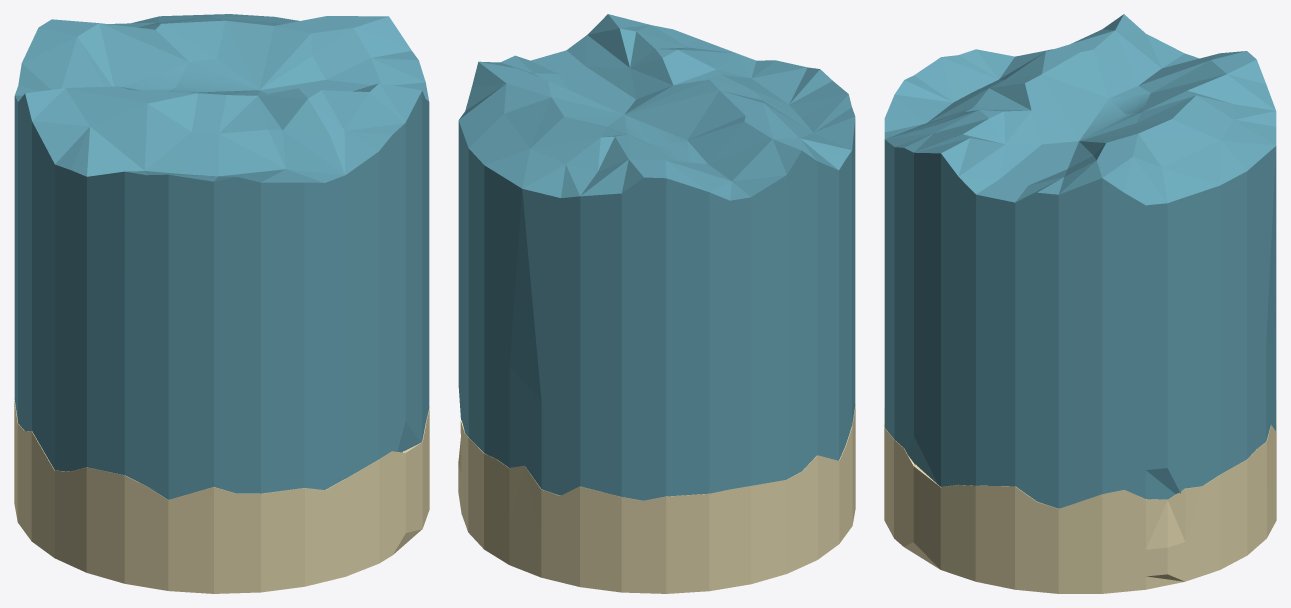
The model's file is parasitic_plastic.glb.
3 renders of one model, left to right at view 1: azimuth 30°, elevation 25°; view 2: azimuth 150°, elevation 25°; view 3: azimuth 270°, elevation 25°, orthographic. The views are drawn at different scales.
Parts seen in each view (by area): view 1: Object_18, Object_7; view 2: Object_18, Object_7; view 3: Object_18, Object_7.
Part boxes in pixels (left/top/right/bottom): Object_18: left=14, top=14, right=429, bottom=499; Object_7: left=14, top=399, right=429, bottom=593; Object_18: left=458, top=14, right=855, bottom=500; Object_7: left=458, top=405, right=855, bottom=593; Object_18: left=884, top=14, right=1276, bottom=508; Object_7: left=884, top=401, right=1276, bottom=593.
Bounding box in the file's own units: 110 × 130 × 110.
